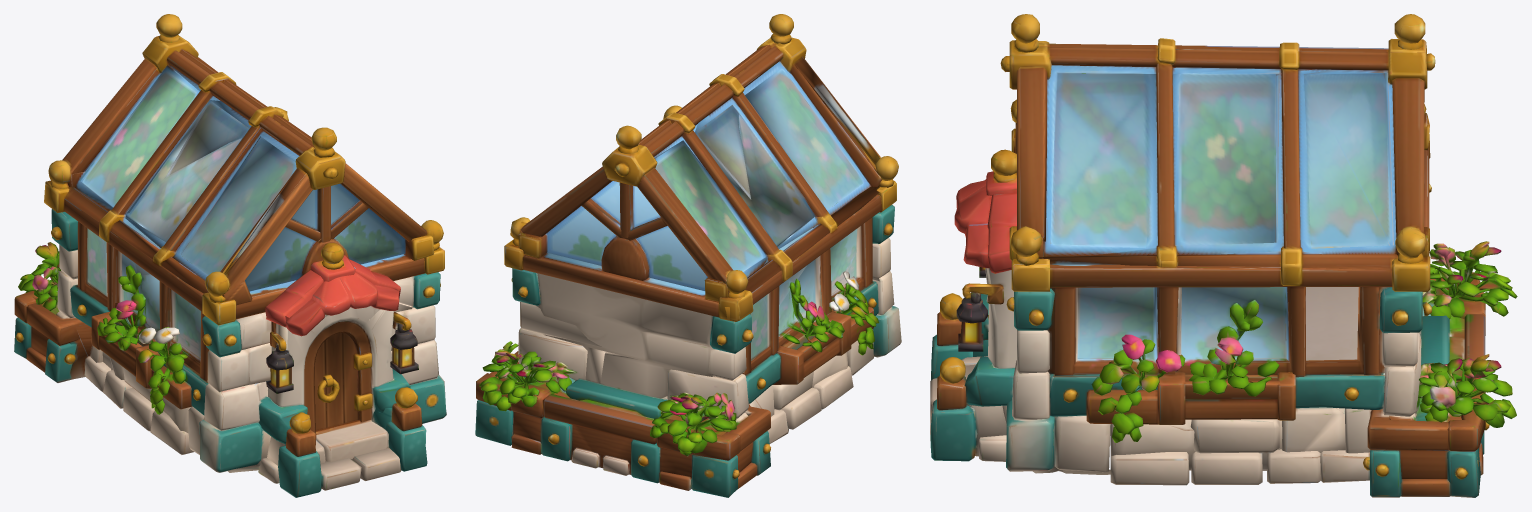
The model's file is greenhouse.glb.
The picture shows the model from 3 angles, left to right: view 1: azimuth 30°, elevation 25°; view 2: azimuth 150°, elevation 25°; view 3: azimuth 270°, elevation 25°; orthographic projection. The views are drawn at different scales.
Size of the model in its own units: 0.6509 by 0.7285 by 0.9546.
Materials: 1 (1 with a texture image).
